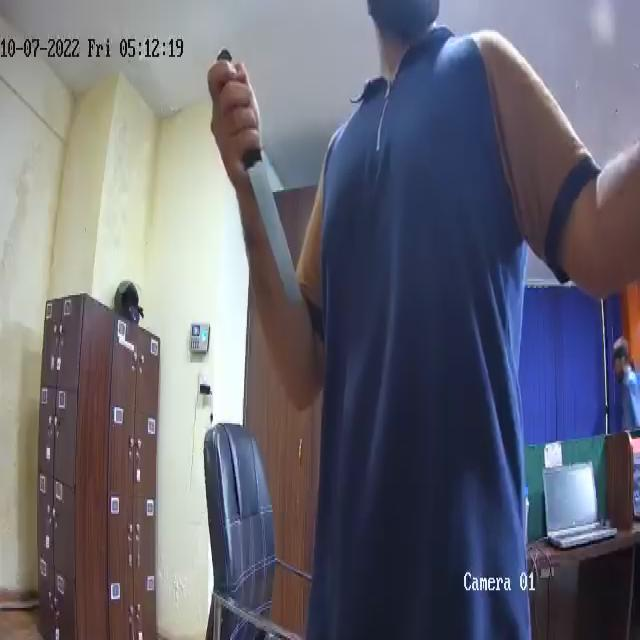Knife: (211, 44, 305, 306)
